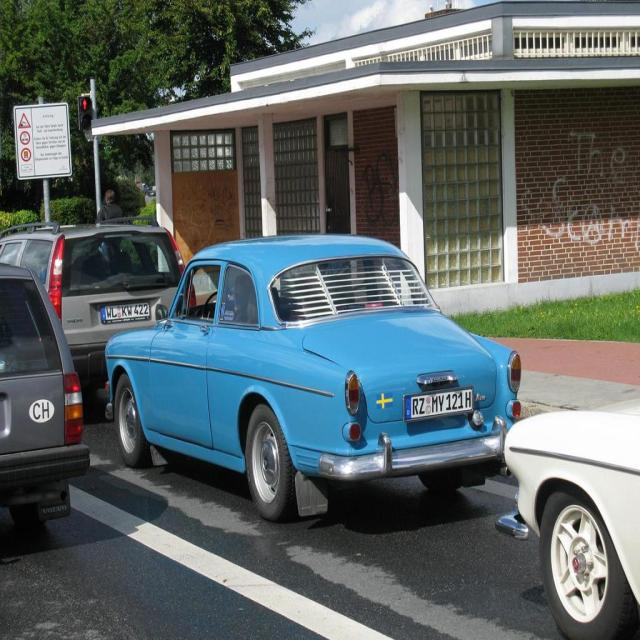car: (100, 227, 526, 528)
